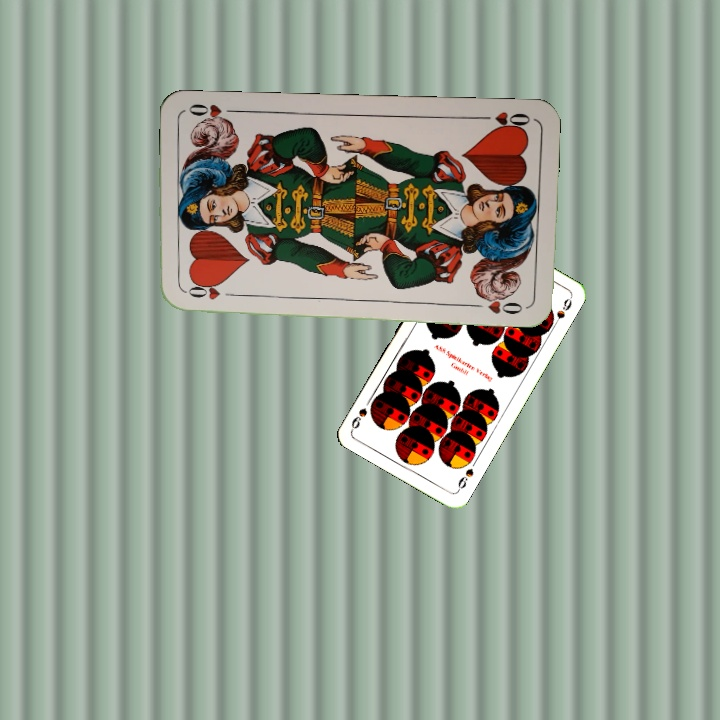HO: (475, 107, 533, 133), (180, 283, 239, 303)
S9: (453, 464, 476, 495)
